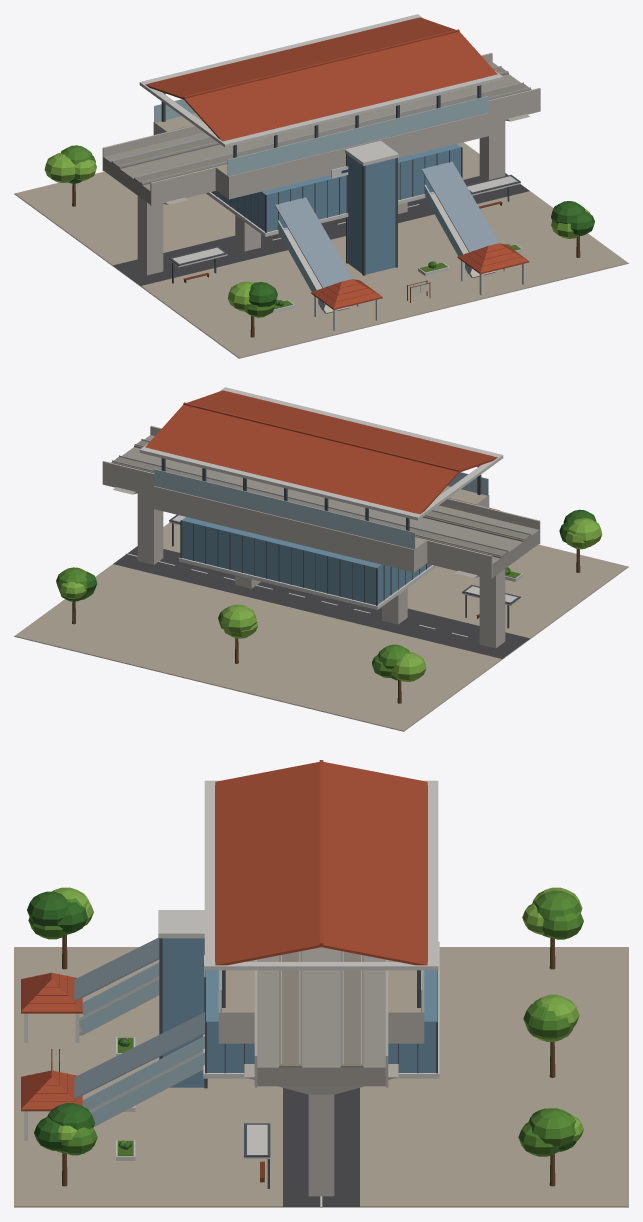
File: station.glb
3 views of the same model, one above another, from view 1: azimuth 30°, elevation 25°; view 2: azimuth 150°, elevation 25°; view 3: azimuth 270°, elevation 25° (orthographic). The views are drawn at different scales.
Parts seen in each view (by area): view 1: body; view 2: body; view 3: body.
Boxes of the visible parts, x1,y1,x2,y2 form: body: (14, 14, 628, 358); body: (14, 387, 628, 731); body: (14, 760, 628, 1207).
Bounding box in the file's own units: 47.95 × 19.48 × 47.9.
